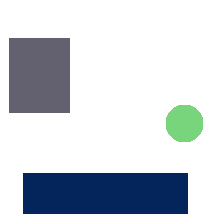circle: (166, 105, 202, 141)
rectangle: (23, 173, 187, 213), (9, 38, 69, 112)
